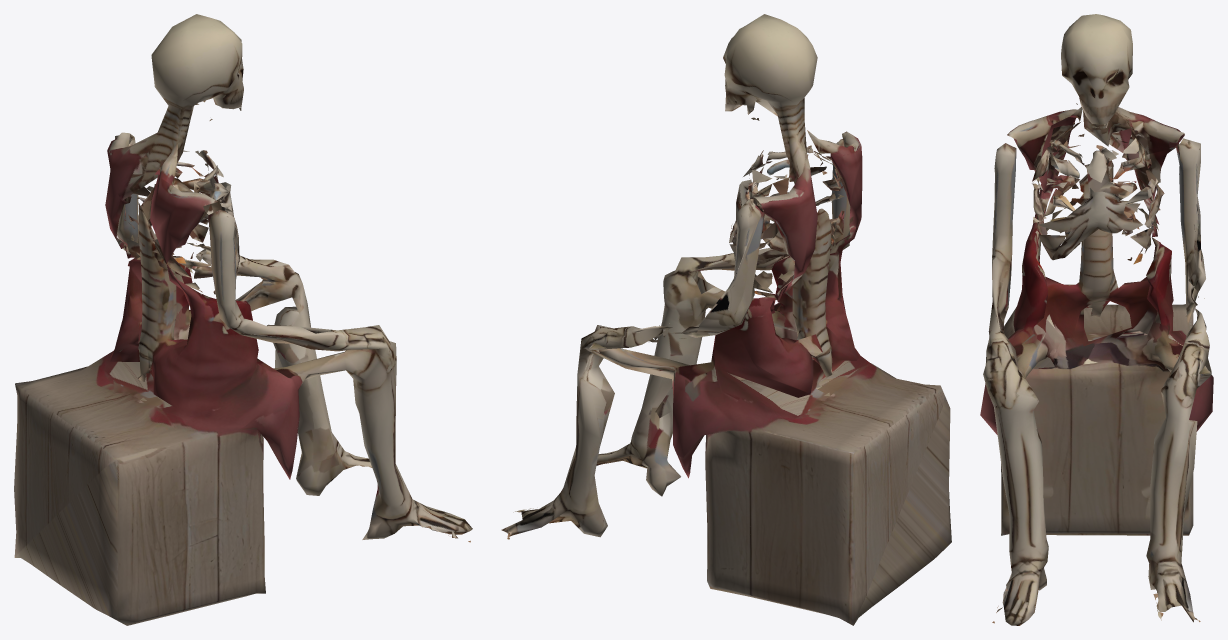
File: kingSkeleton.fbx
3 views of the same model, side by side, from view 1: azimuth 30°, elevation 25°; view 2: azimuth 150°, elevation 25°; view 3: azimuth 270°, elevation 25° (orthographic). The views are drawn at different scales.
Visible parts, largest first — view 1: tripo_node_d772aa13; view 2: tripo_node_d772aa13; view 3: tripo_node_d772aa13.
Boxes of the visible parts, box(x1,y1,x2,y2) form: tripo_node_d772aa13: box(14, 14, 472, 625); tripo_node_d772aa13: box(501, 14, 951, 625); tripo_node_d772aa13: box(980, 14, 1213, 625).
Size of the model in its own units: 66.61 by 94.36 by 39.13.
1 material, 1 textured.
